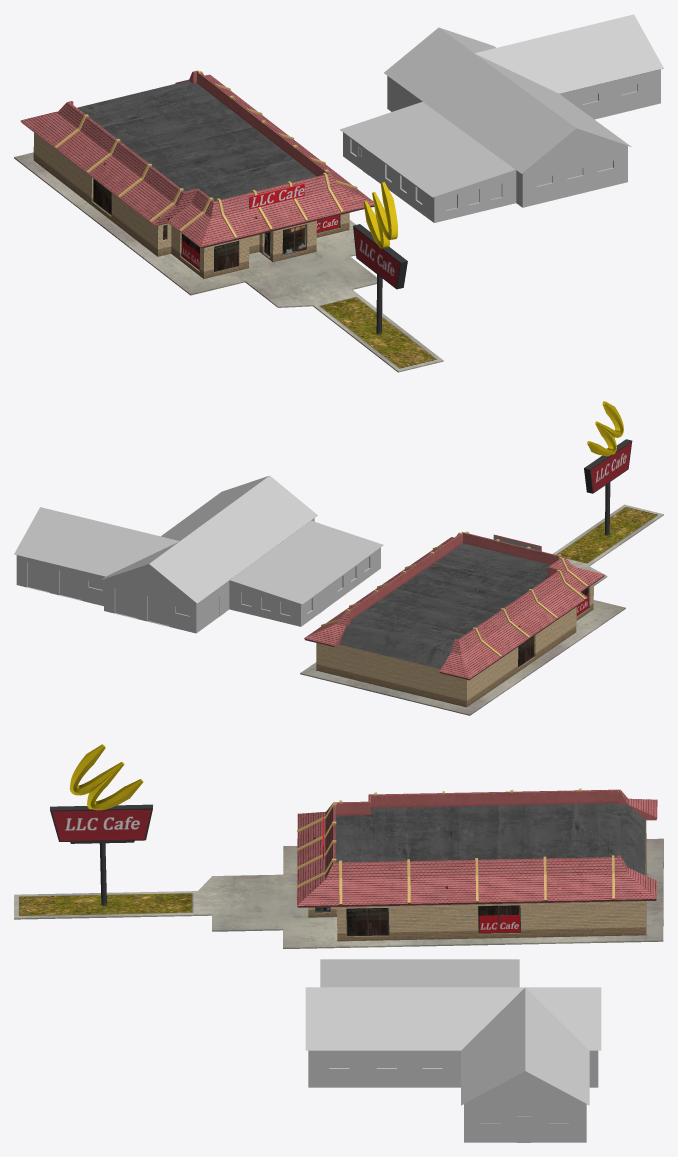
The model's file is Lcc cafe.fbx.
3 views of the same model, one above another, from view 1: azimuth 30°, elevation 25°; view 2: azimuth 150°, elevation 25°; view 3: azimuth 270°, elevation 25° (orthographic). The views are drawn at different scales.
Parts seen in each view (by area): view 1: Lcc_cafe, House; view 2: Lcc_cafe, House; view 3: Lcc_cafe, House.
Part boxes in pixels (left/top/right/bottom): Lcc_cafe: left=14, top=70, right=443, bottom=372; House: left=340, top=14, right=663, bottom=222; Lcc_cafe: left=300, top=401, right=663, bottom=715; House: left=14, top=475, right=383, bottom=633; Lcc_cafe: left=14, top=744, right=663, bottom=948; House: left=305, top=959, right=601, bottom=1142.
Bounding box in the file's own units: 21521 × 5689 × 20306.
